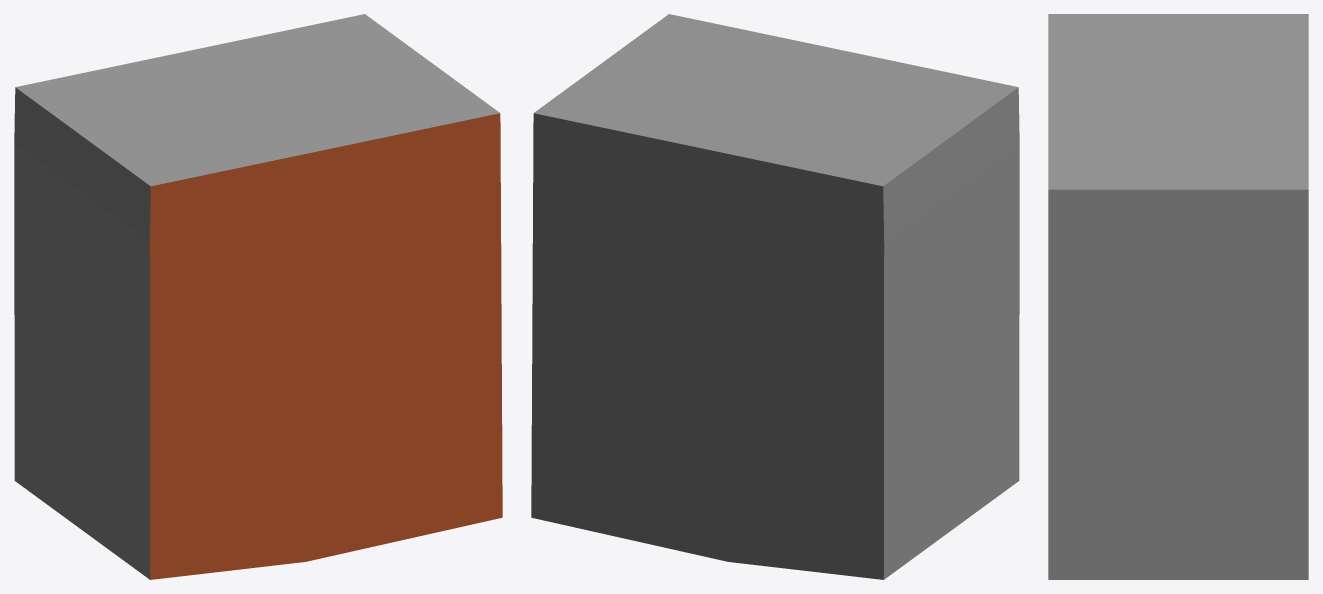
Rendered from construction_7248_assumed_A_Ruinas_h6m.obj.
3 views of the same model, side by side, from view 1: azimuth 30°, elevation 25°; view 2: azimuth 150°, elevation 25°; view 3: azimuth 270°, elevation 25° (orthographic). The views are drawn at different scales.
Visible parts, largest first — view 1: construction_7248_assumed_A_Ruinas; view 2: construction_7248_assumed_A_Ruinas; view 3: construction_7248_assumed_A_Ruinas.
Part boxes in pixels (x1,y1,x2,y2): construction_7248_assumed_A_Ruinas: (14,14,502,579); construction_7248_assumed_A_Ruinas: (531,14,1019,579); construction_7248_assumed_A_Ruinas: (1048,14,1308,579).
Size of the model in its own units: 9.02 by 10.19 by 6.
